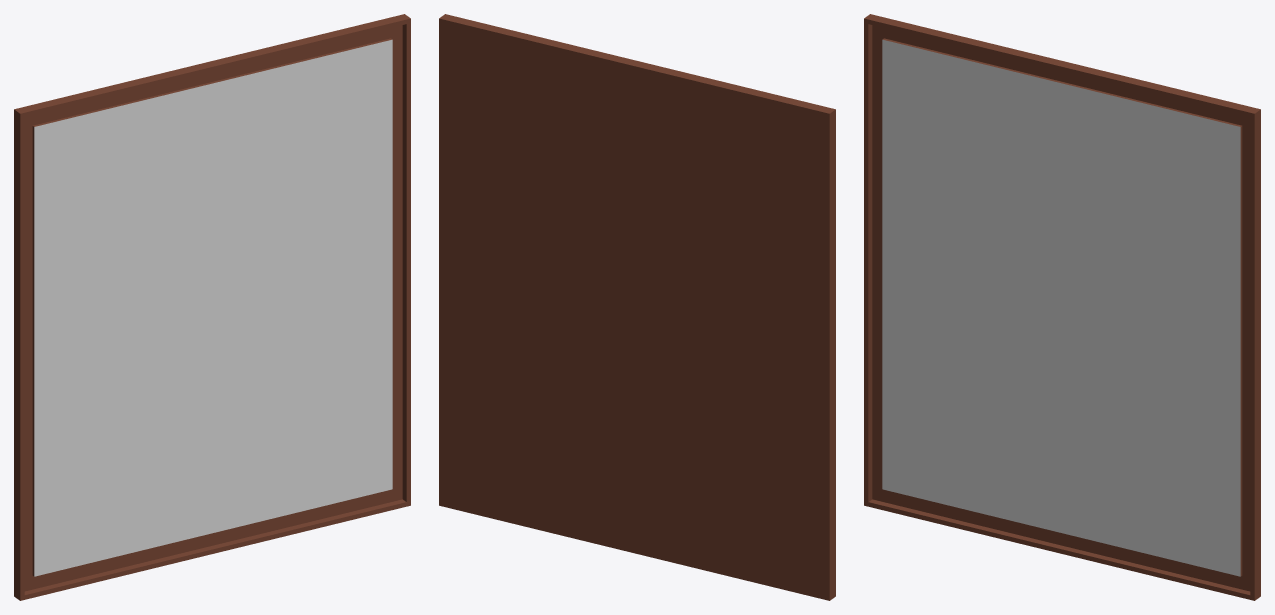
File: painting.fbx
3 views of the same model, side by side, from view 1: azimuth 30°, elevation 25°; view 2: azimuth 150°, elevation 25°; view 3: azimuth 330°, elevation 25° (orthographic).
Visible parts, largest first — view 1: painting; view 2: painting; view 3: painting.
Boxes of the visible parts, x1,y1,x2,y2 form: painting: (14, 14, 410, 600); painting: (439, 14, 835, 600); painting: (864, 14, 1260, 600).
Bounding box in the file's own units: 200 × 238 × 5.44.
